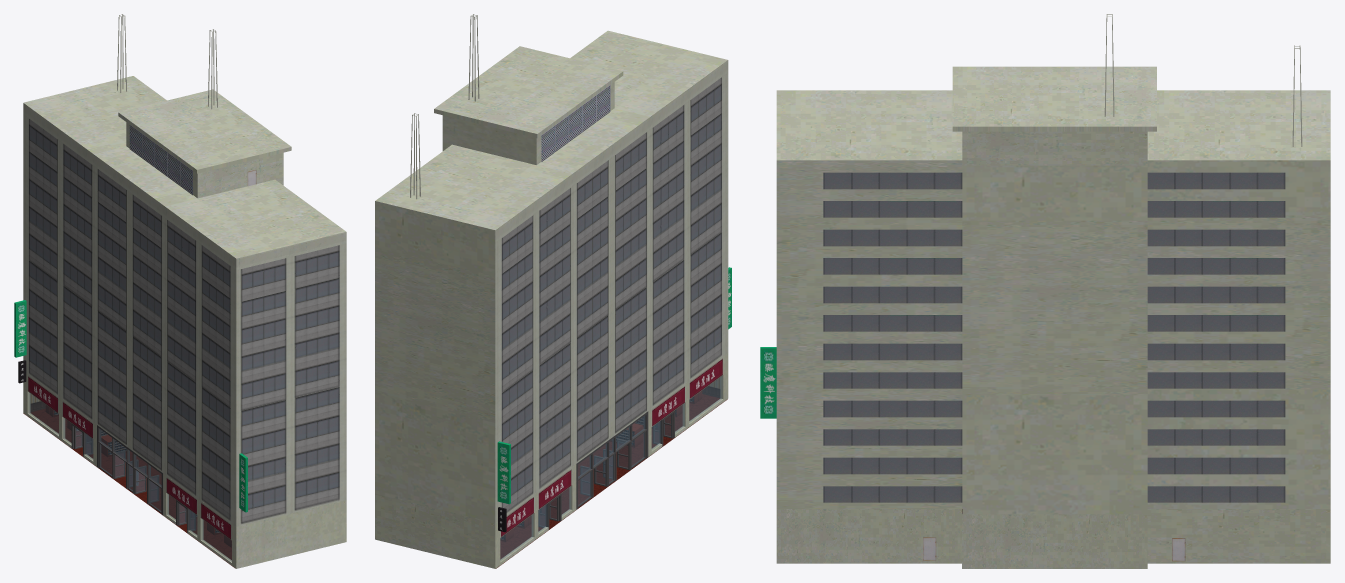
Rendered from SYJ_jiudian.FBX.
3 renders of one model, left to right at view 1: azimuth 30°, elevation 25°; view 2: azimuth 150°, elevation 25°; view 3: azimuth 270°, elevation 25°, orthographic. The views are drawn at different scales.
Visible parts, largest first — view 1: erlou, yilou, boli, dimian, meng, jiudian; view 2: erlou, yilou, boli, dimian, meng, jiudian; view 3: erlou, yilou.
Boxes of the visible parts, bbox=[...] form: erlou: bbox=[14, 14, 346, 526]; yilou: bbox=[23, 373, 346, 568]; boli: bbox=[28, 392, 231, 561]; dimian: bbox=[23, 409, 235, 568]; meng: bbox=[71, 424, 196, 532]; jiudian: bbox=[45, 405, 231, 547]; erlou: bbox=[375, 14, 731, 532]; yilou: bbox=[375, 353, 728, 568]; boli: bbox=[500, 376, 722, 560]; dimian: bbox=[496, 394, 727, 568]; meng: bbox=[538, 410, 674, 529]; jiudian: bbox=[500, 391, 702, 541]; erlou: bbox=[760, 14, 1330, 561]; yilou: bbox=[776, 509, 1330, 568].
Size of the model in its own units: 2263 by 6774 by 6425.
